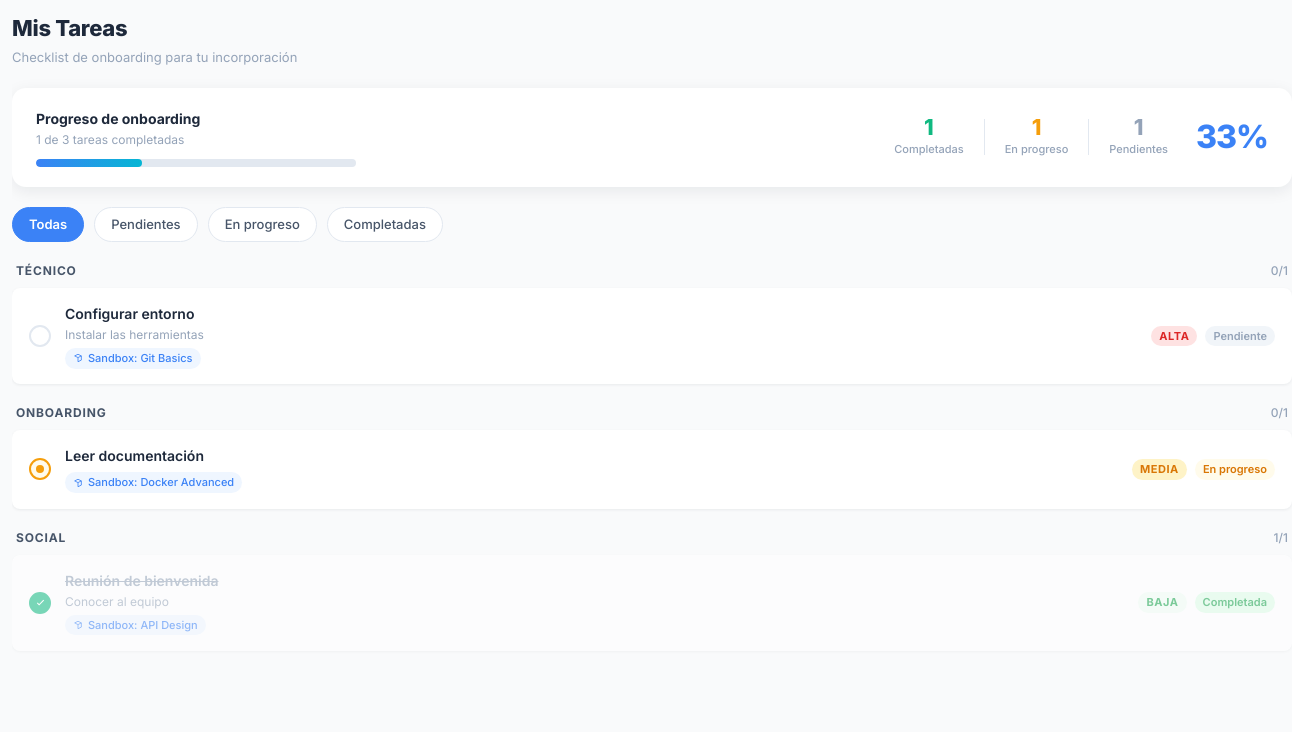
it: Tasks › filtra para mostrar solo tareas completadas
Expected: the text "Reunión de bienvenida" is shown, [65, 572, 218, 588]
Click the button "Completadas" at (385,224), box [327, 206, 443, 242]
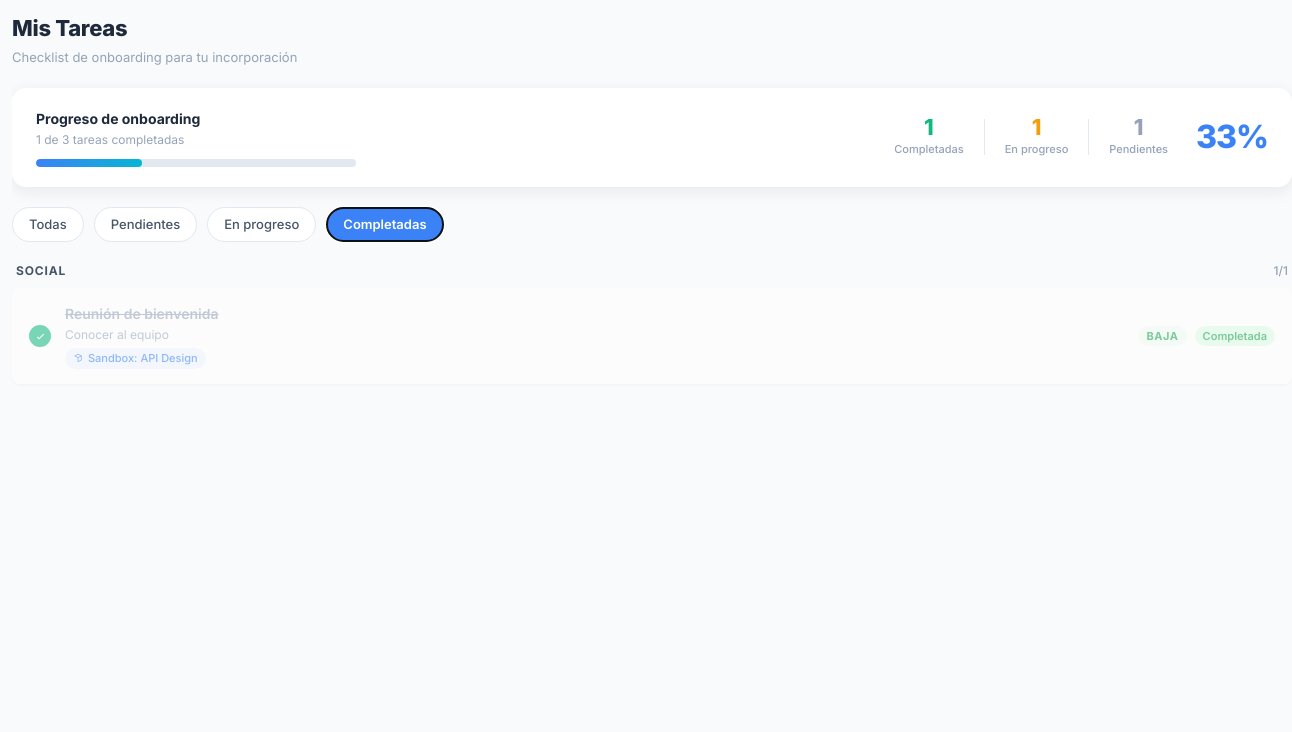
Expected: the text "Reunión de bienvenida" is shown, [65, 305, 218, 322]
Result: the text "Configurar entorno" is gone
Result: the text "Leer documentación" is gone
